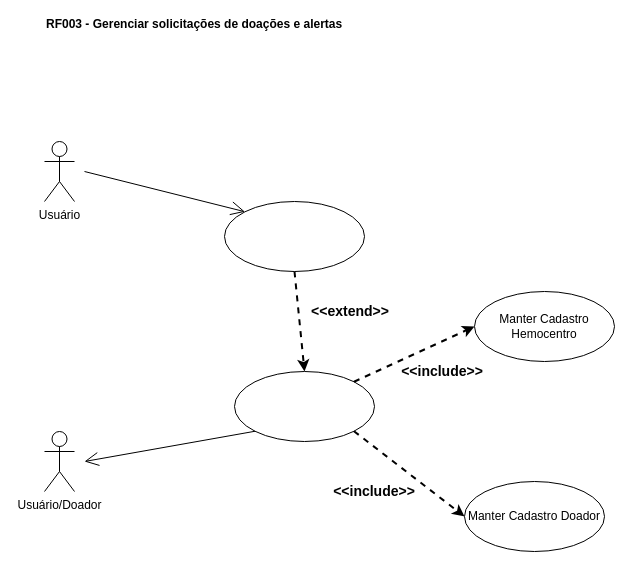
Image size: 632x569. Some labels were removed from this diagram. The centre of each missing label's shape, as x and y in pixels:
Alertar Doador: the point at 304,406
Solicitar Doação: the point at 294,236
